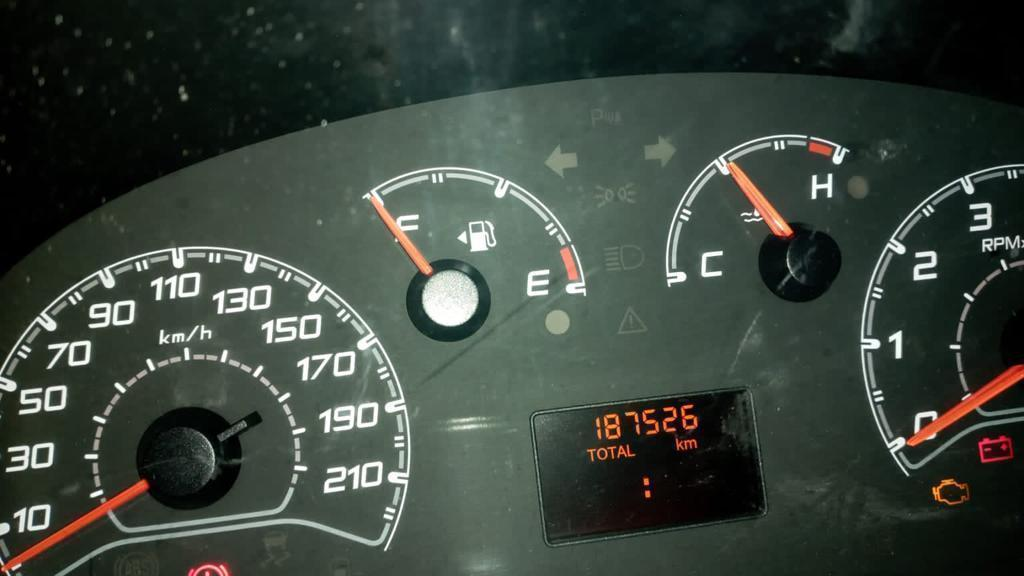1: (592, 412, 603, 441)
2: (662, 404, 677, 434)
5: (642, 407, 659, 436)
6: (680, 402, 699, 432)
7: (623, 409, 641, 437)
8: (603, 411, 621, 439)
X: (640, 473, 653, 502), (626, 442, 637, 458), (596, 446, 607, 461), (607, 444, 616, 461), (586, 447, 596, 462), (684, 438, 697, 449), (617, 444, 626, 459), (674, 437, 683, 451)
odometer: (528, 381, 775, 549)
